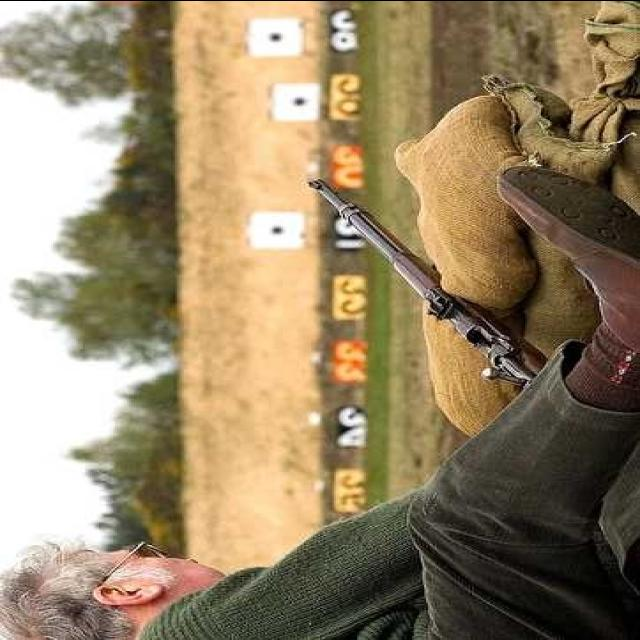heavyweapon: (302, 147, 548, 409)
